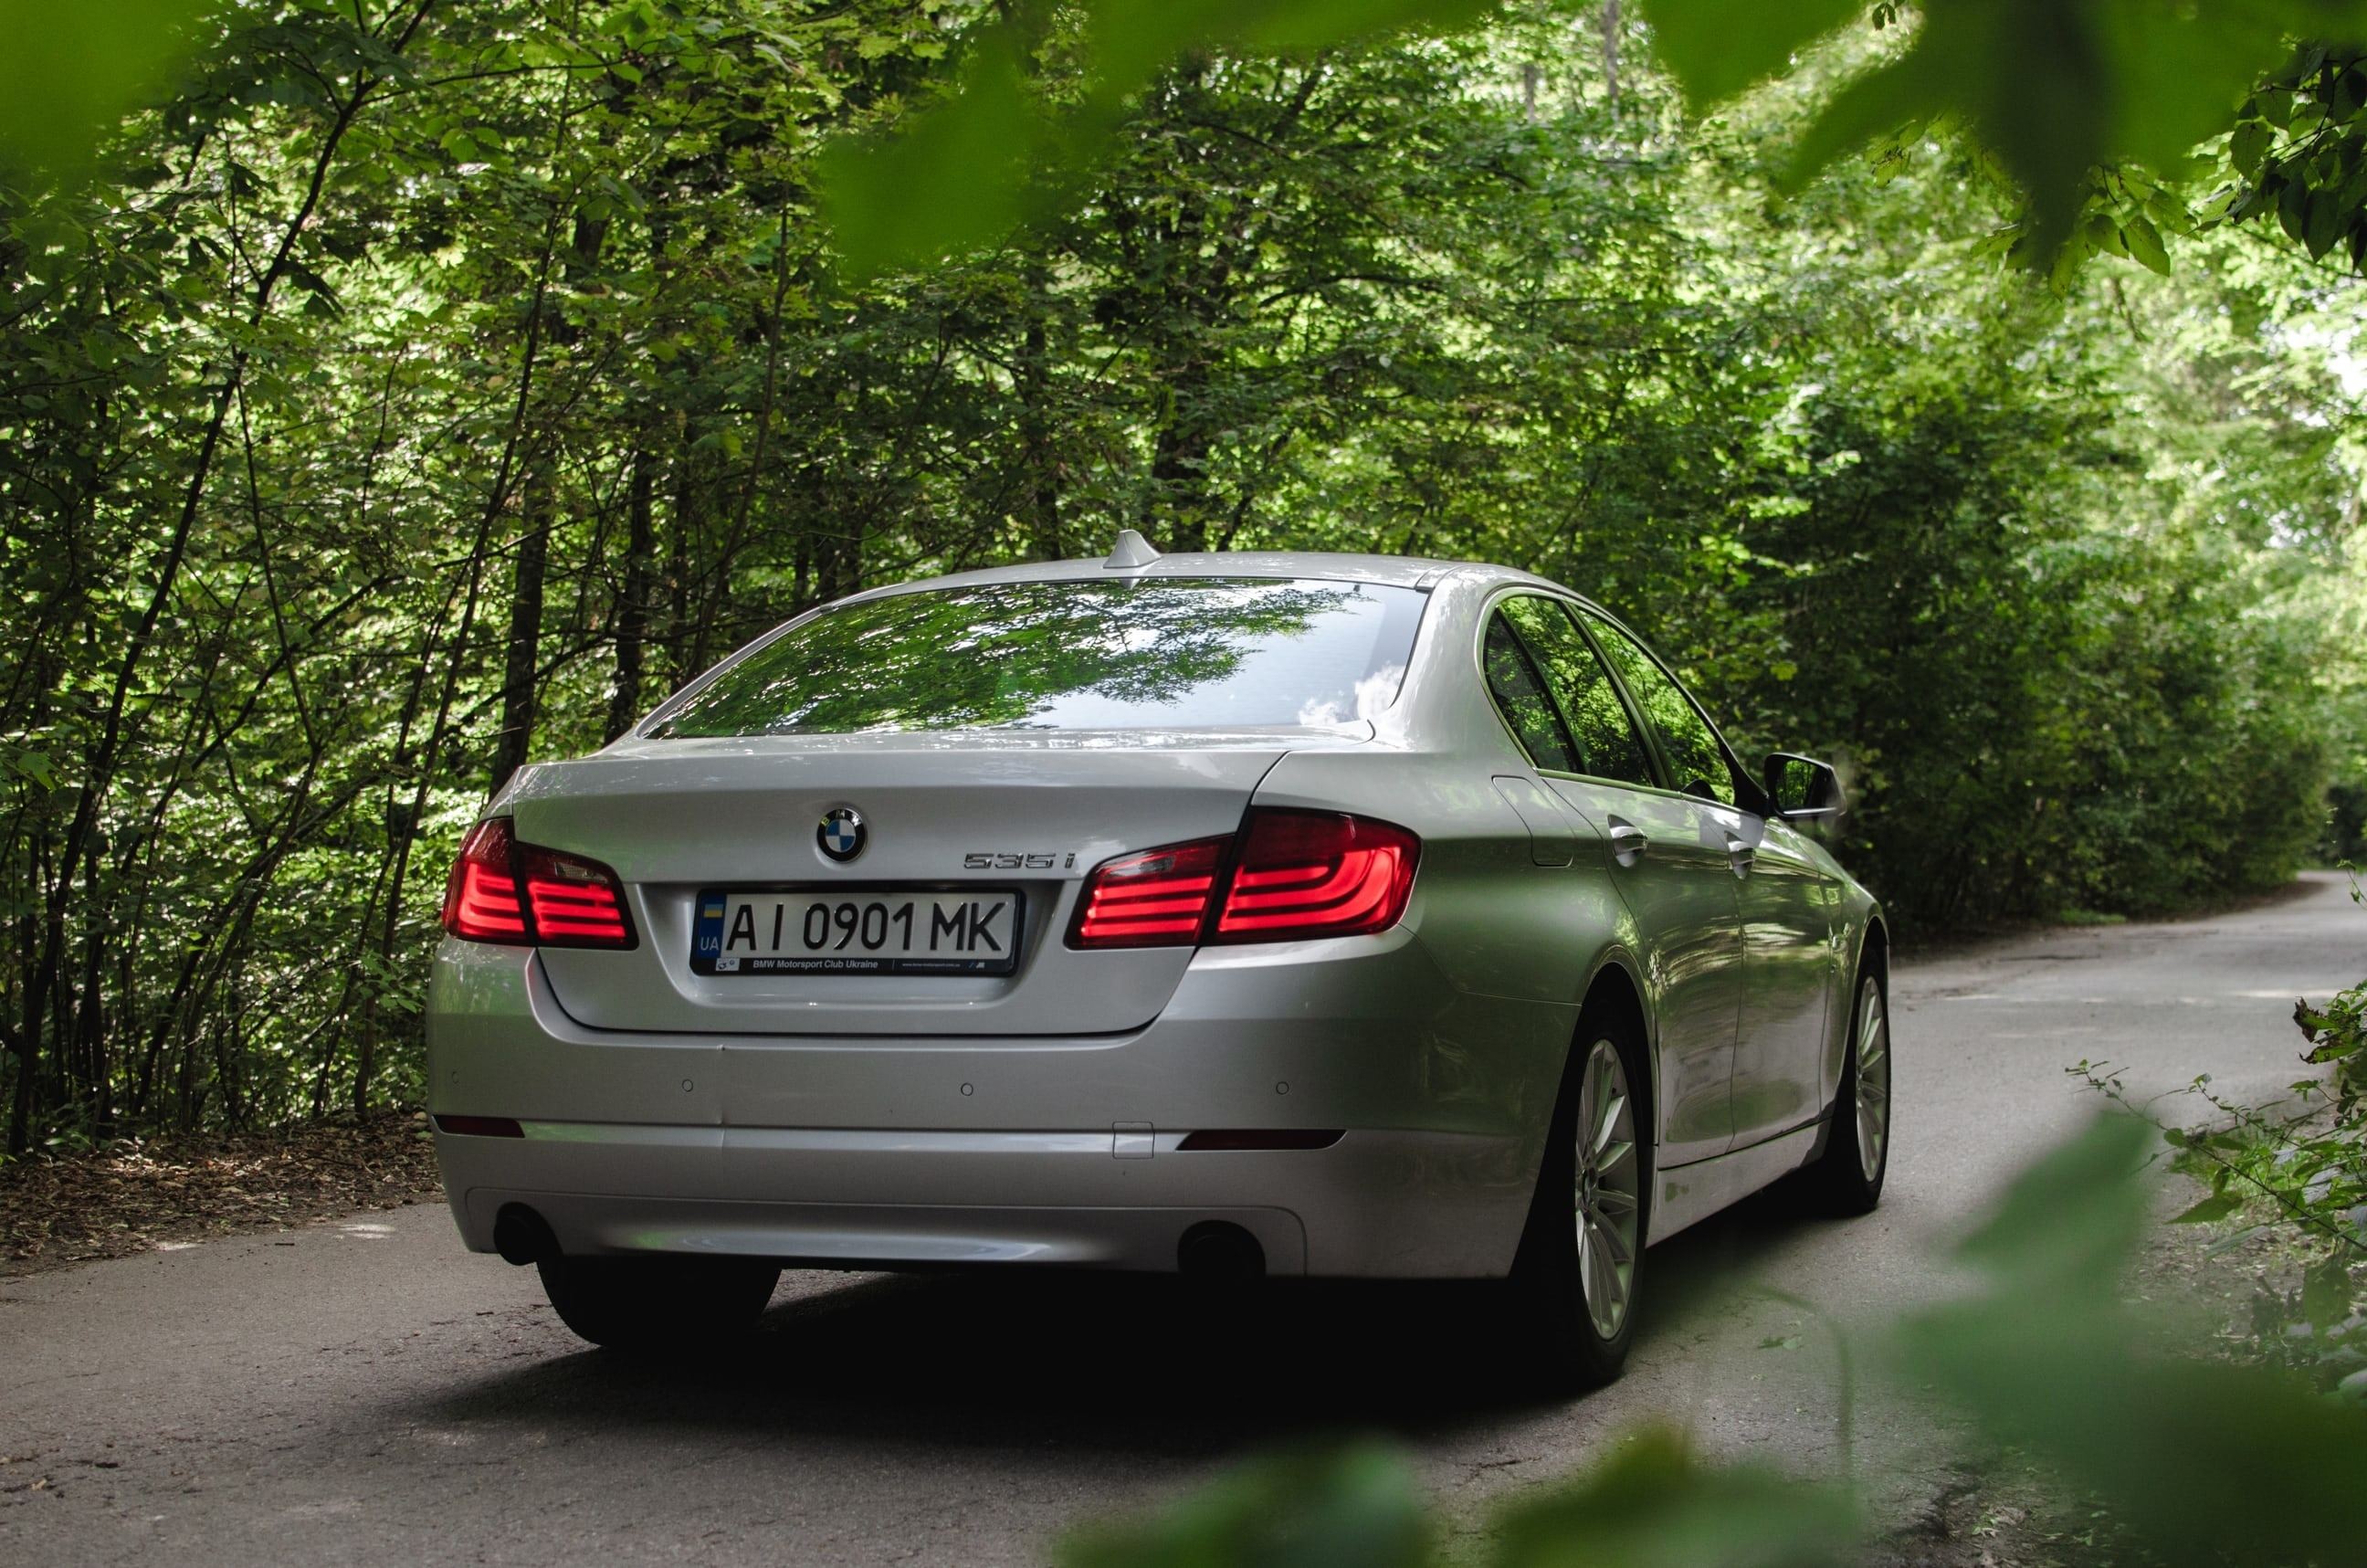plaka: (690, 887, 1021, 962)
